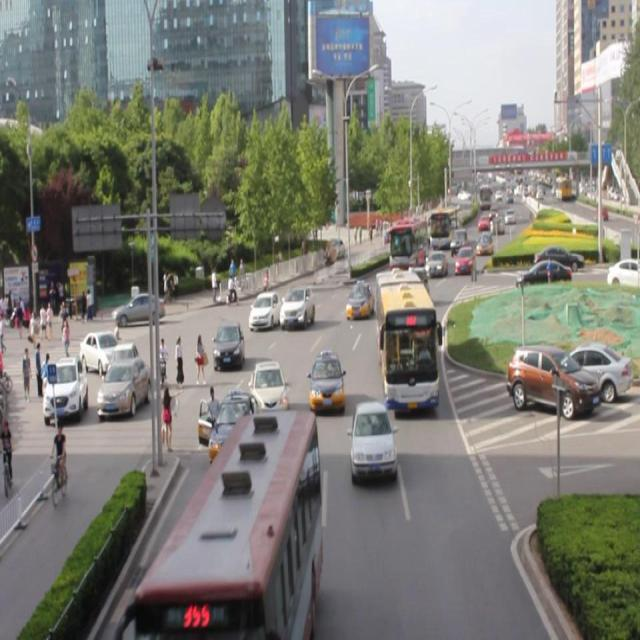car: (350, 398, 397, 480), (208, 390, 254, 466), (250, 359, 288, 422), (309, 353, 345, 413), (214, 321, 244, 369), (280, 286, 314, 328), (248, 291, 280, 330), (345, 278, 373, 319), (410, 293, 435, 335), (407, 265, 428, 300), (454, 244, 475, 276), (424, 248, 444, 276)
van: (138, 411, 316, 640), (374, 271, 437, 408), (388, 213, 427, 269)
